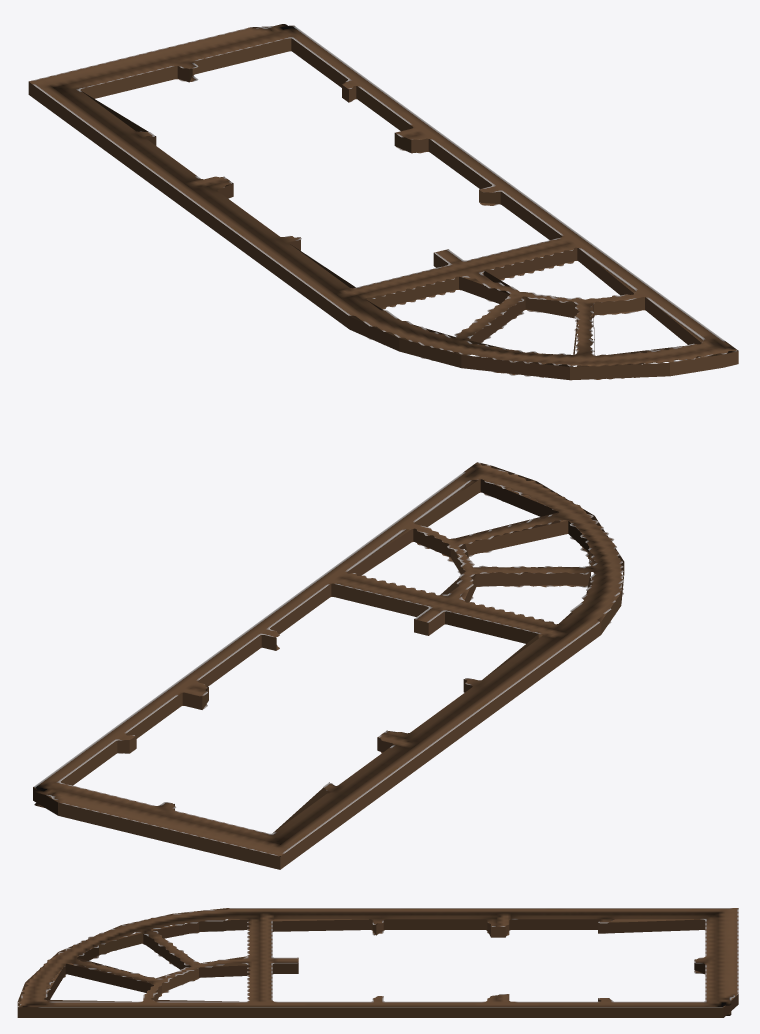
Rendered from pz_native_fixtures_windows_wood_93_frame.obj.
The picture shows the model from 3 angles, top to bottom: view 1: azimuth 30°, elevation 25°; view 2: azimuth 150°, elevation 25°; view 3: azimuth 270°, elevation 25°; orthographic projection. The views are drawn at different scales.
Parts seen in each view (by area): view 1: pz_native_fixtures_windows_wood_93_frame; view 2: pz_native_fixtures_windows_wood_93_frame; view 3: pz_native_fixtures_windows_wood_93_frame.
Boxes of the visible parts, x1,y1,x2,y2 form: pz_native_fixtures_windows_wood_93_frame: (28, 24, 738, 380); pz_native_fixtures_windows_wood_93_frame: (33, 462, 624, 869); pz_native_fixtures_windows_wood_93_frame: (17, 908, 738, 1017).
Size of the model in its own units: 0.8594 by 0.04 by 2.53.
1 material, 1 textured.
